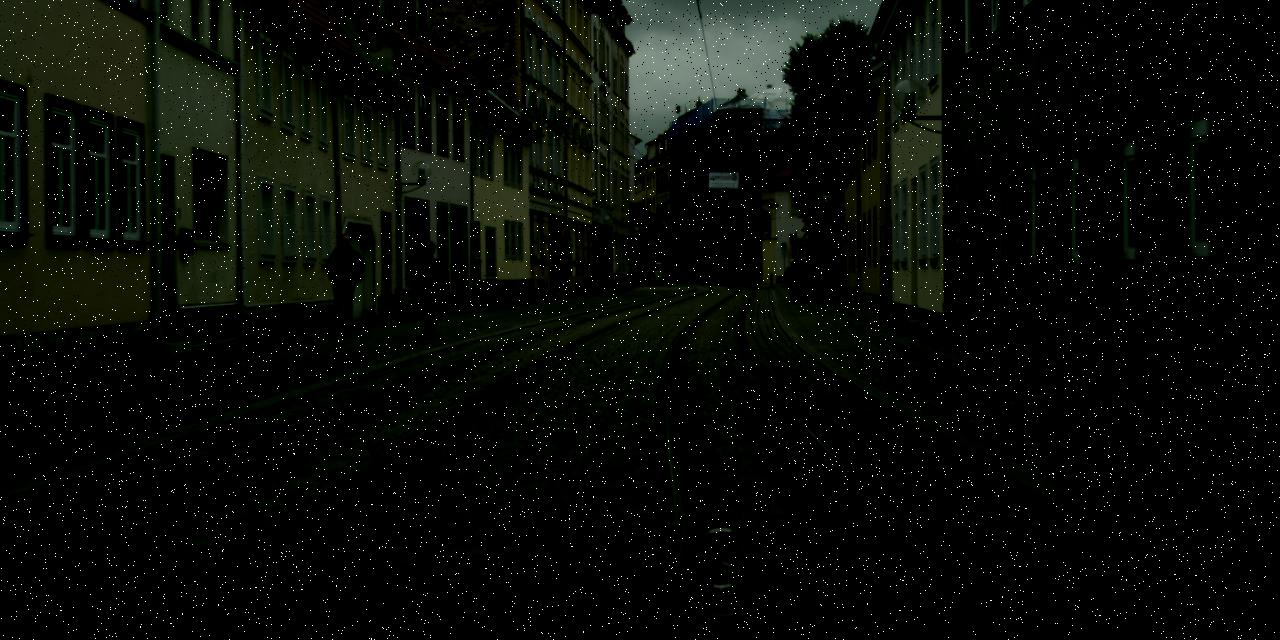ped: (322, 233, 363, 334), (409, 241, 448, 336), (784, 257, 810, 303), (805, 249, 826, 302), (661, 263, 670, 286)
